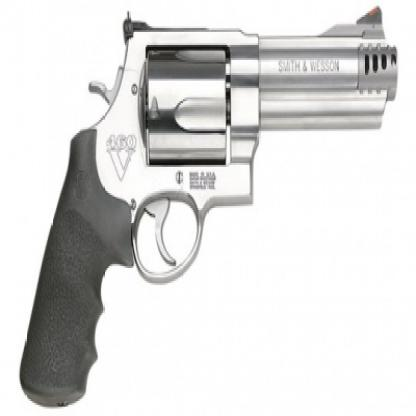Guns: (18, 4, 398, 414)
